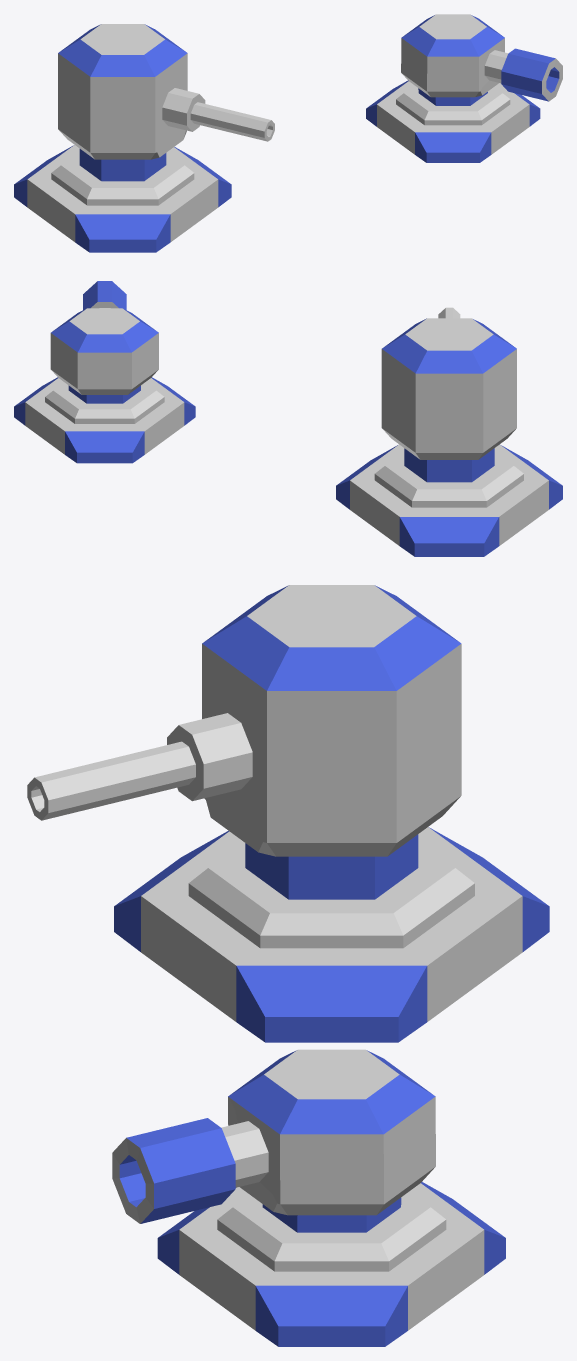
File: towerb.glb
3 renders of one model, top to bottom at view 1: azimuth 30°, elevation 25°; view 2: azimuth 150°, elevation 25°; view 3: azimuth 270°, elevation 25°, orthographic. The views are drawn at different scales.
Parts seen in each view (by area): view 1: Head, Base, Head.001, Base.001; view 2: Head, Base, Base.001, Head.001; view 3: Head, Base, Head.001, Base.001.
Boxes of the visible parts, left/top/right/bottom form: Head: left=58, top=24, right=274, bottom=181; Base: left=14, top=145, right=231, bottom=252; Head.001: left=401, top=14, right=562, bottom=105; Base.001: left=366, top=80, right=540, bottom=162; Head: left=381, top=307, right=516, bottom=482; Base: left=336, top=444, right=562, bottom=556; Base.001: left=14, top=377, right=195, bottom=463; Head.001: left=50, top=281, right=158, bottom=403; Head: left=27, top=585, right=461, bottom=899; Base: left=114, top=827, right=549, bottom=1042; Head.001: left=112, top=1049, right=435, bottom=1232; Base.001: left=157, top=1182, right=505, bottom=1346.
Size of the model in its own units: 5.76 by 1.95 by 2.74.
